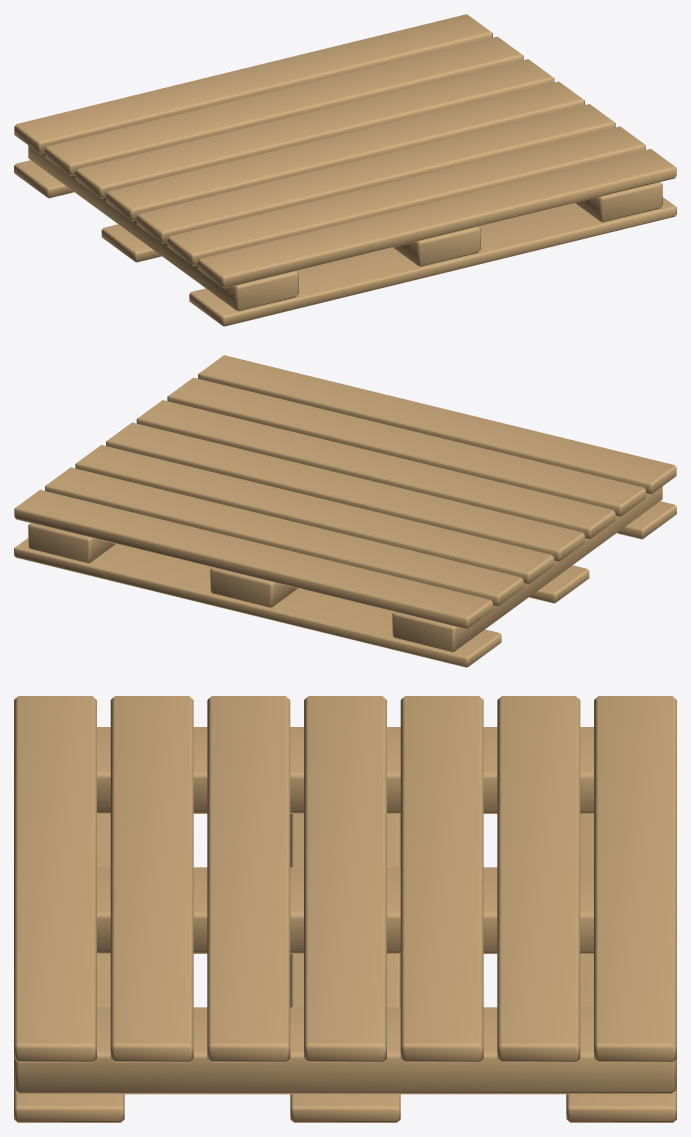
The model's file is fine_pallet.glb.
3 renders of one model, top to bottom at view 1: azimuth 30°, elevation 25°; view 2: azimuth 150°, elevation 25°; view 3: azimuth 270°, elevation 25°, orthographic. The views are drawn at different scales.
Parts seen in each view (by area): view 1: fine_pallet_structure; view 2: fine_pallet_structure; view 3: fine_pallet_structure.
Boxes of the visible parts, left/top/right/bottom form: fine_pallet_structure: left=14, top=14, right=676, bottom=326; fine_pallet_structure: left=14, top=355, right=676, bottom=667; fine_pallet_structure: left=14, top=696, right=676, bottom=1122.
Size of the model in its own units: 1.5 by 0.16 by 1.2.
